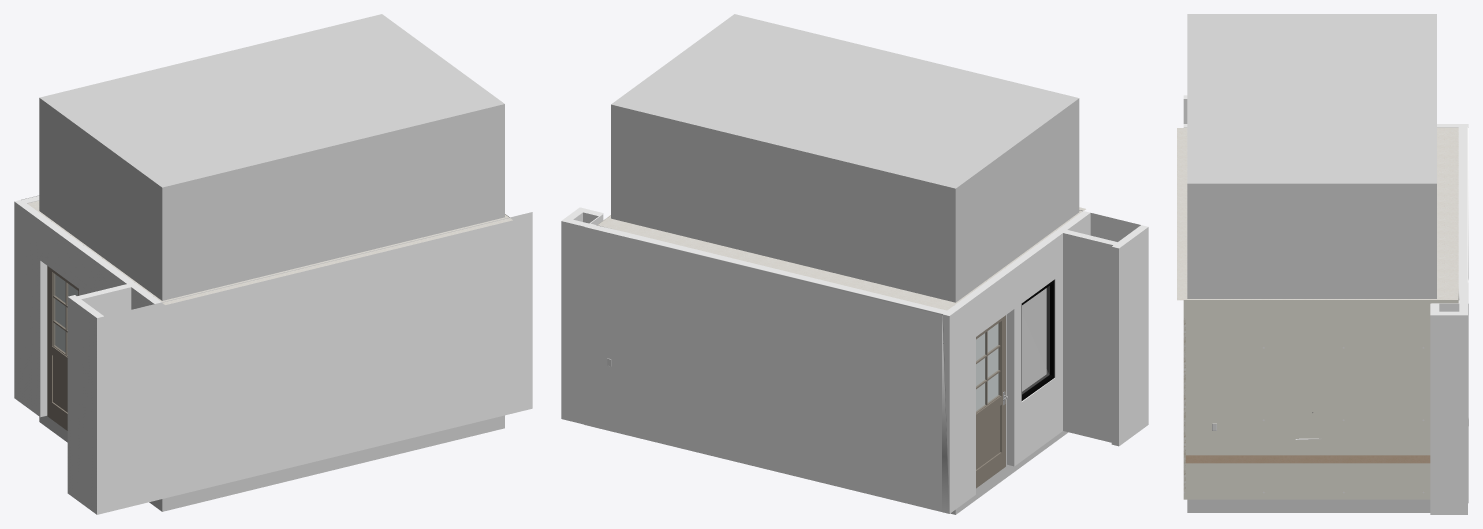
Rendered from breakroom_b_test.glb.
3 renders of one model, left to right at view 1: azimuth 30°, elevation 25°; view 2: azimuth 150°, elevation 25°; view 3: azimuth 270°, elevation 25°, orthographic.
Parts seen in each view (by area): view 1: Mesh8233 Group2116 G_2025_0618_Schoolhouse_com_dwg1 Model, available_moving_area, Mesh9073 Deur_met_glas_1_1 G_2025_0618_Schoolhouse_com_dwg1 , breakroom_ceiling; view 2: Mesh8233 Group2116 G_2025_0618_Schoolhouse_com_dwg1 Model, available_moving_area, Mesh9073 Deur_met_glas_1_1 G_2025_0618_Schoolhouse_com_dwg1 , breakroom_ceiling, Mesh8708 RS_Sidelight___GLAZING_G1_9061200__3D_1 G_2025_0618; view 3: available_moving_area, Mesh8233 Group2116 G_2025_0618_Schoolhouse_com_dwg1 Model, breakroom_ceiling, Mesh1326 Group1390 Model, Mesh521 Group604 Model.
Boxes of the visible parts, x1,y1,x2,y2 form: Mesh8233 Group2116 G_2025_0618_Schoolhouse_com_dwg1 Model: (14,195,532,514); available_moving_area: (39,14,504,511); Mesh9073 Deur_met_glas_1_1 G_2025_0618_Schoolhouse_com_dwg1 : (47,266,78,430); breakroom_ceiling: (27,200,512,304); Mesh8233 Group2116 G_2025_0618_Schoolhouse_com_dwg1 Model: (561,207,1148,513); available_moving_area: (611,14,1079,514); Mesh9073 Deur_met_glas_1_1 G_2025_0618_Schoolhouse_com_dwg1 : (976,315,1005,488); breakroom_ceiling: (598,207,1085,310); Mesh8708 RS_Sidelight___GLAZING_G1_9061200__3D_1 G_2025_0618: (1021,279,1054,400); available_moving_area: (1187,14,1436,512); Mesh8233 Group2116 G_2025_0618_Schoolhouse_com_dwg1 Model: (1183,95,1468,514); breakroom_ceiling: (1177,128,1458,300); Mesh1326 Group1390 Model: (1185,455,1430,463); Mesh521 Group604 Model: (1183,318,1185,489).
Size of what is drawn, in the model's own units: 287 by 200 by 161.
Materials: 60 (30 with a texture image).
